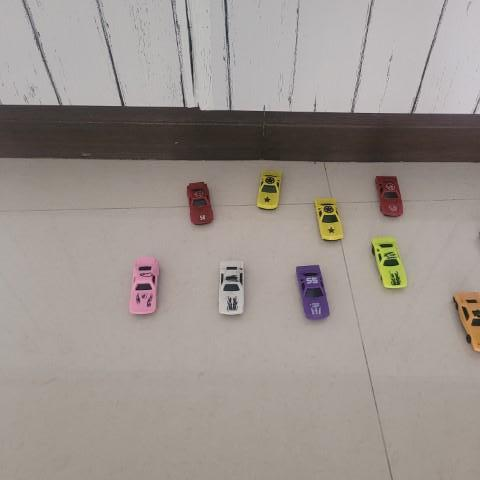car: (126, 255, 161, 320), (294, 262, 330, 322), (370, 234, 409, 288), (216, 259, 246, 319), (184, 178, 220, 227), (308, 196, 345, 242), (251, 164, 286, 211), (374, 173, 405, 219)
